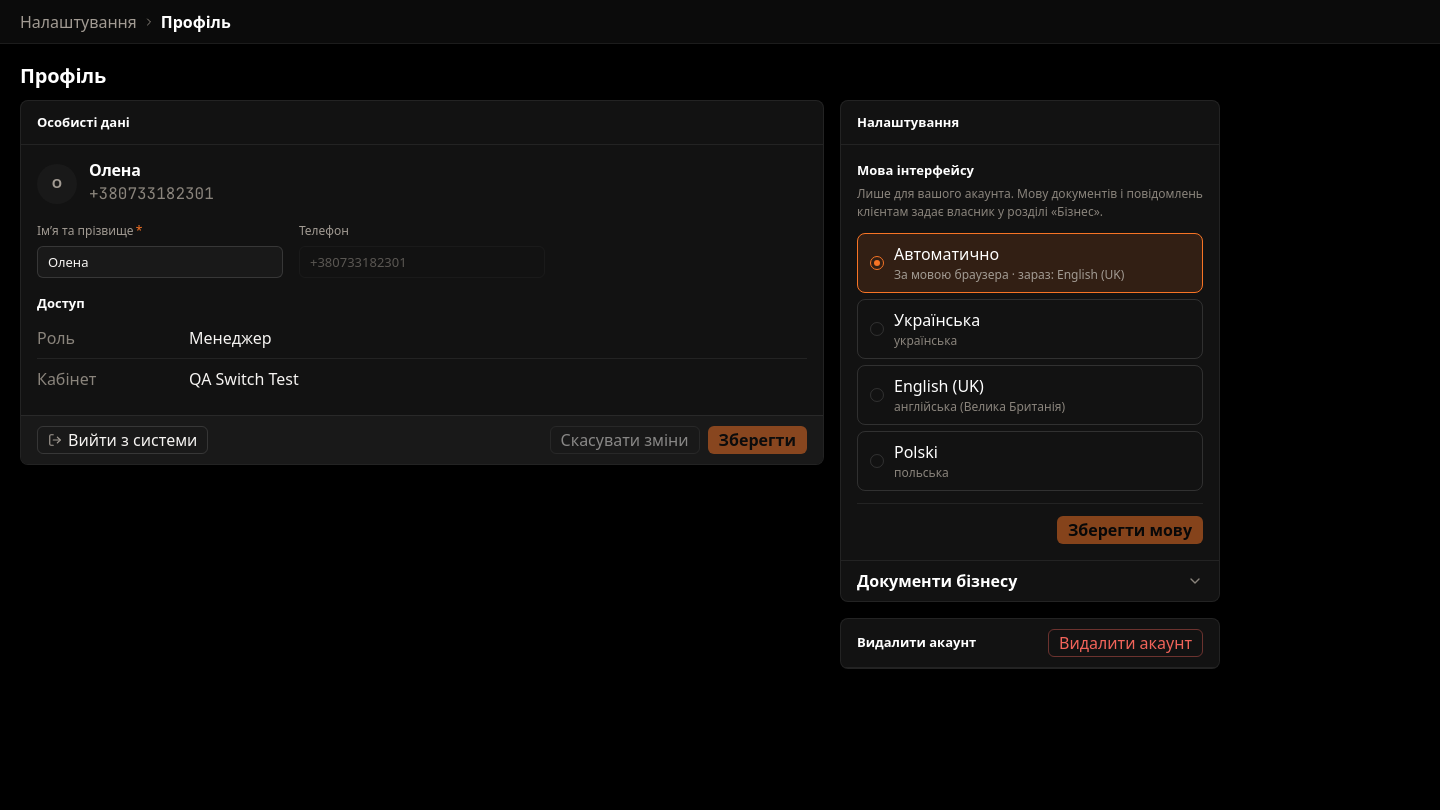
Test: trims and saves the name once while the request is pending
Replace the text in the field labelled "Ім’я та прізвище" with "  Нова назва  " at (160, 262), box [37,246,283,278]
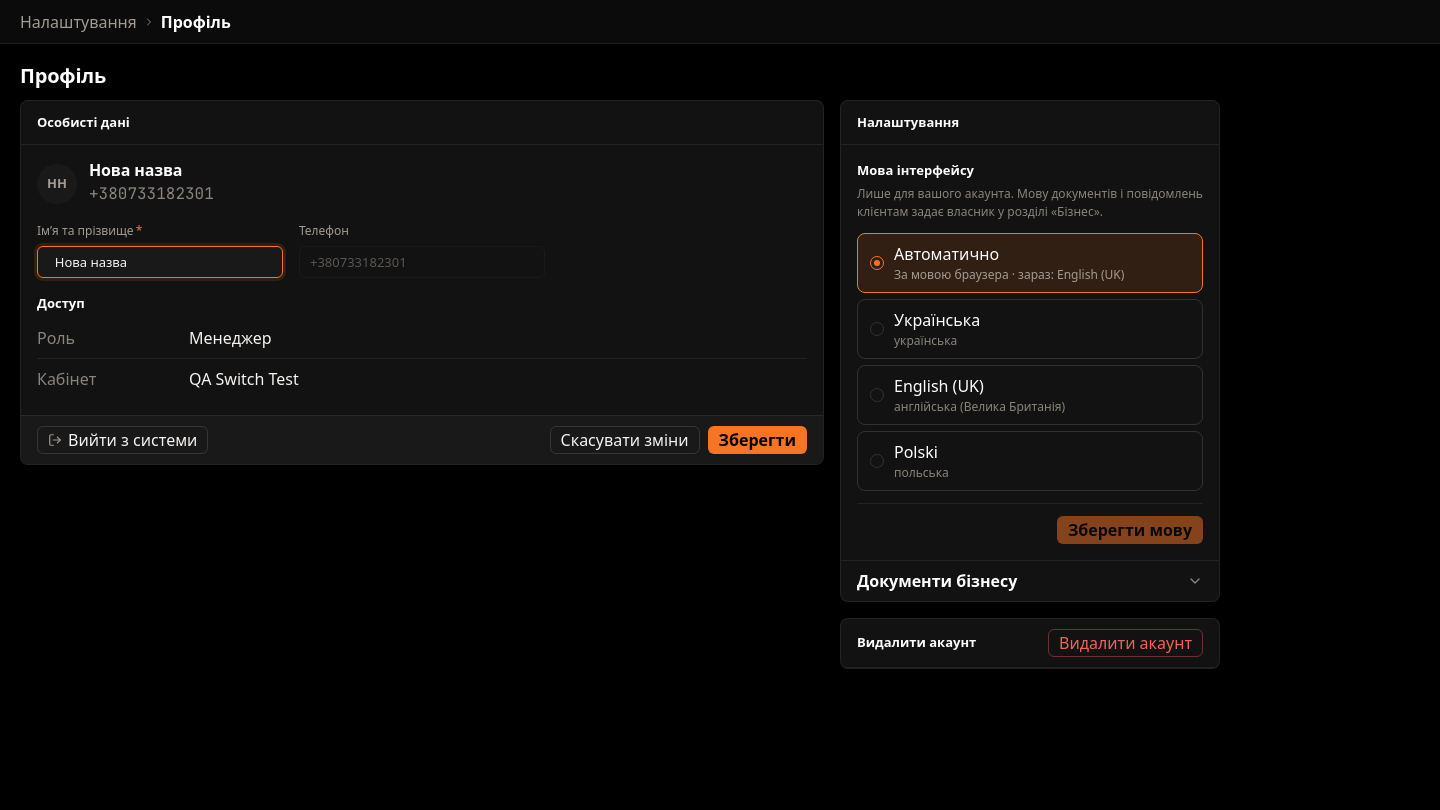
Click the button "Зберегти" at (757, 440), box [708,426,807,454]
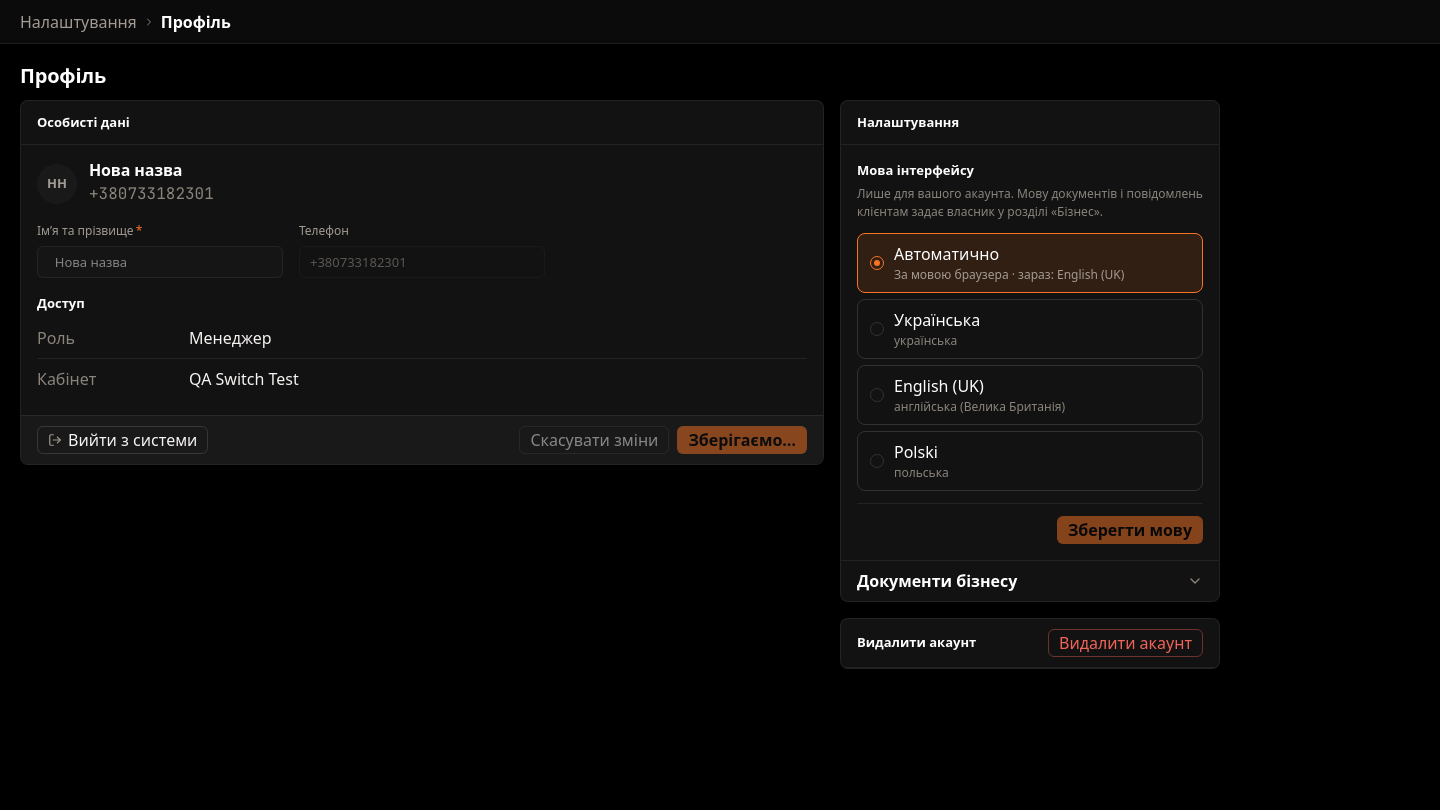
Expected: the button named "Зберегти" is disabled
Expected: the button named "Зберегти" reads "Зберігаємо…"
Click the button named "Зберегти" at (742, 440), box [677,426,807,454]
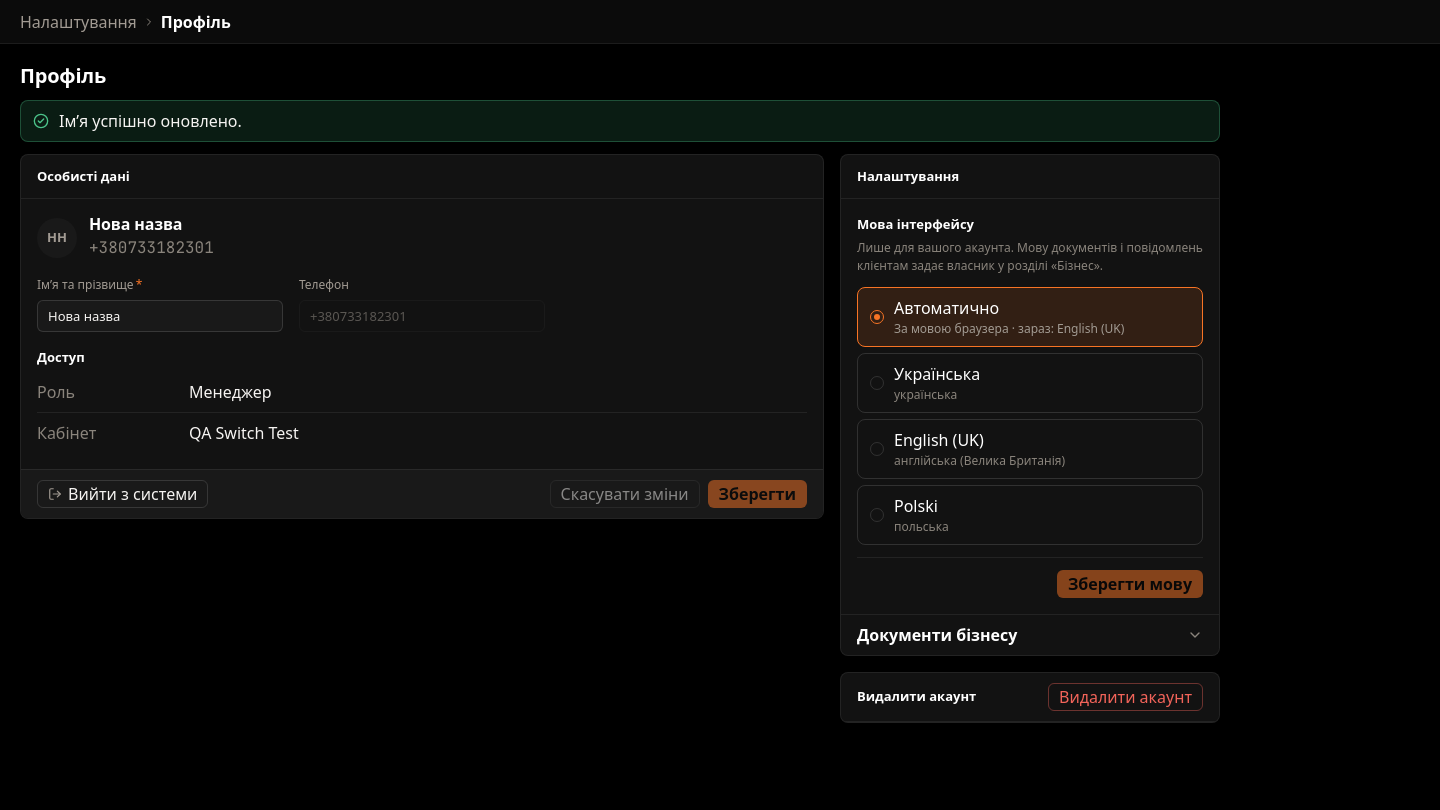
Expected: the message reads "Ім’я успішно оновлено.", [59,110,242,132]
